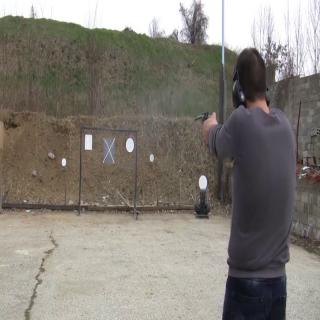gun: (186, 106, 219, 139)
